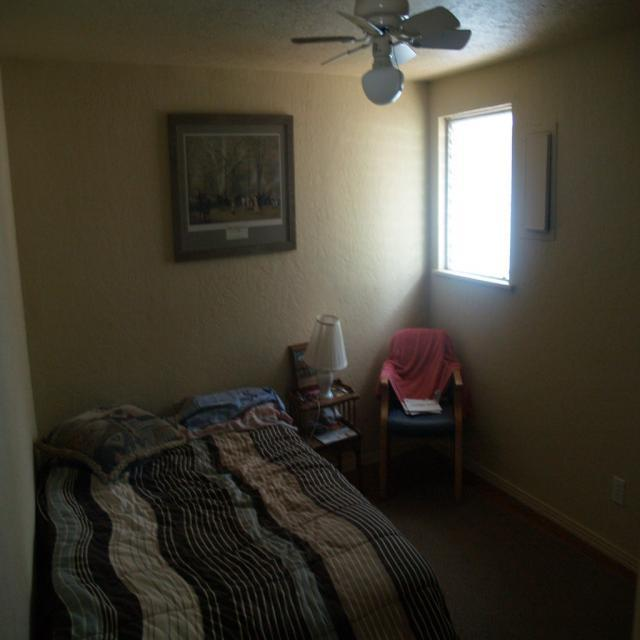fan_off: (286, 0, 476, 67)
